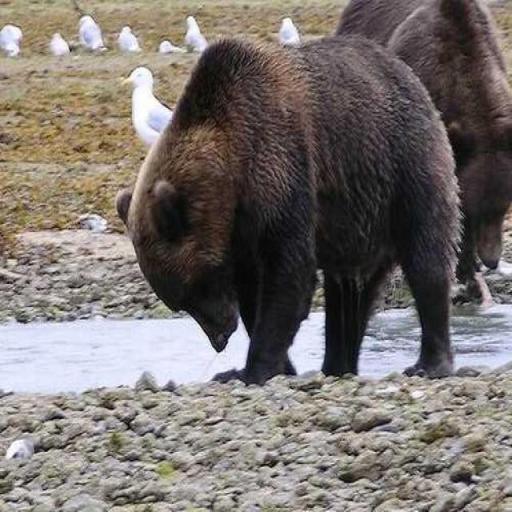Bear: (114, 30, 464, 385), (332, 0, 510, 309)
